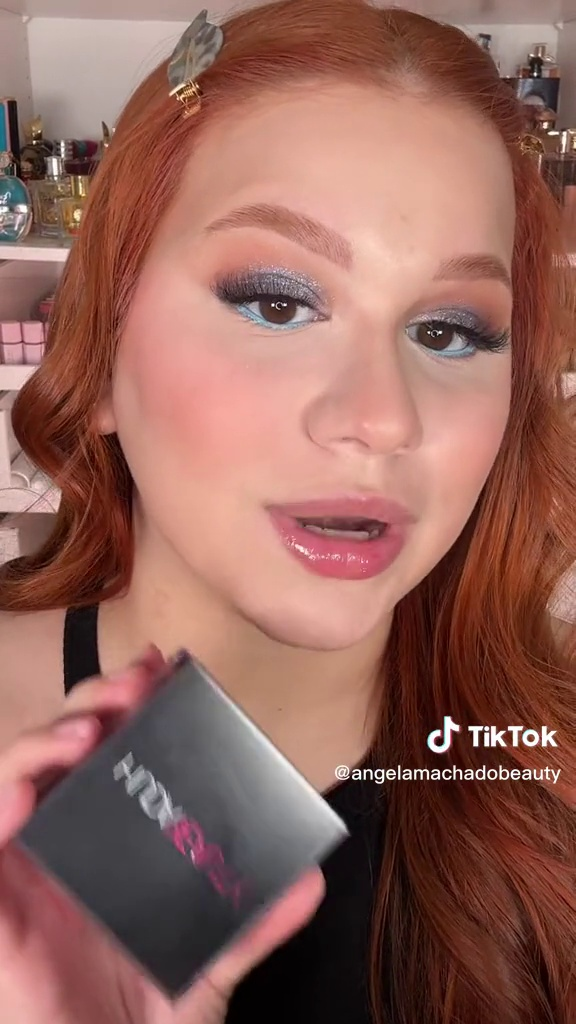train' :'yolo_data/train/images',: (6, 640, 360, 1007)
